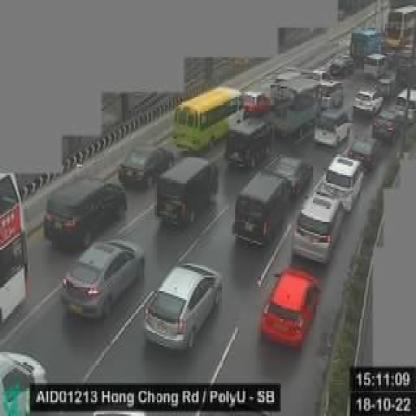Car: (142, 260, 225, 355), (61, 239, 145, 322), (42, 180, 128, 250), (256, 269, 322, 351), (233, 170, 297, 249), (0, 343, 59, 412), (292, 190, 344, 265), (114, 142, 176, 192), (225, 116, 276, 174), (322, 153, 368, 214), (313, 105, 352, 148), (276, 155, 314, 195), (372, 107, 406, 146), (349, 136, 380, 172), (353, 86, 386, 116), (243, 85, 273, 116), (326, 52, 358, 80), (362, 52, 390, 78)
Truck: (152, 154, 224, 230), (173, 83, 246, 150), (271, 77, 345, 140)
